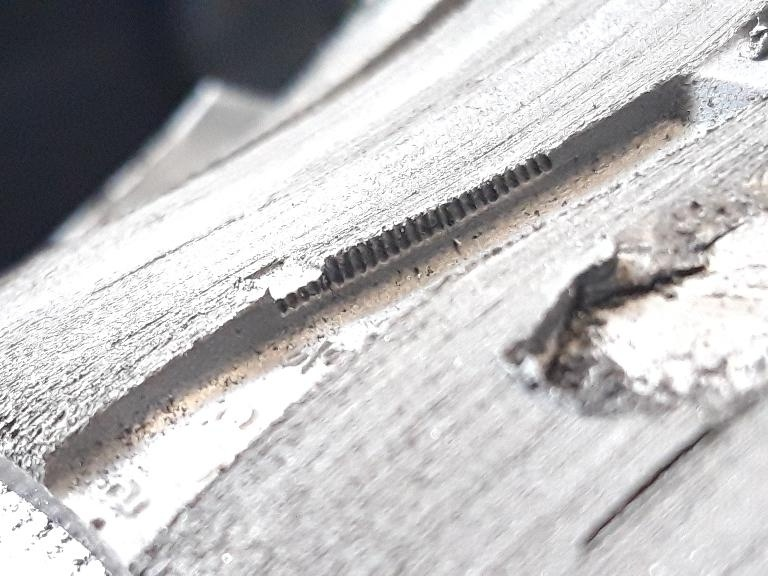temoin:0: (231, 207, 378, 329)
